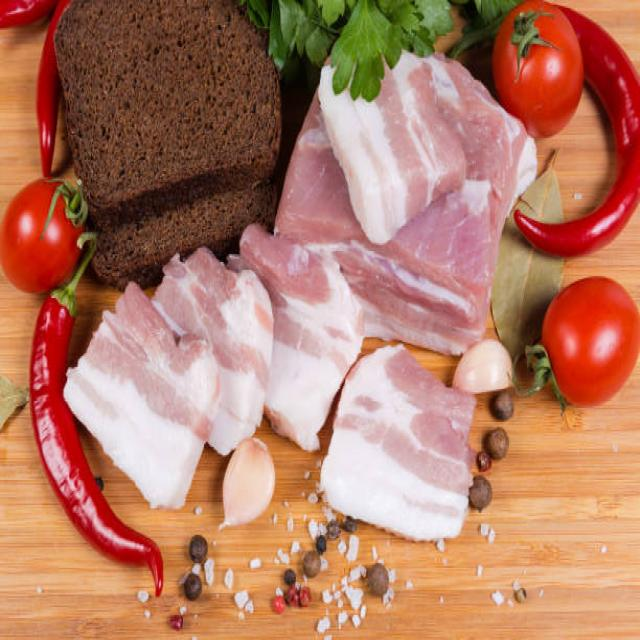chilli: (586, 22, 640, 258), (24, 287, 79, 515)
pork belly: (182, 236, 352, 426), (78, 294, 211, 517), (326, 351, 473, 541), (326, 37, 466, 223), (339, 187, 491, 345)
tomato: (538, 272, 640, 408), (491, 0, 580, 124), (0, 173, 84, 292)
